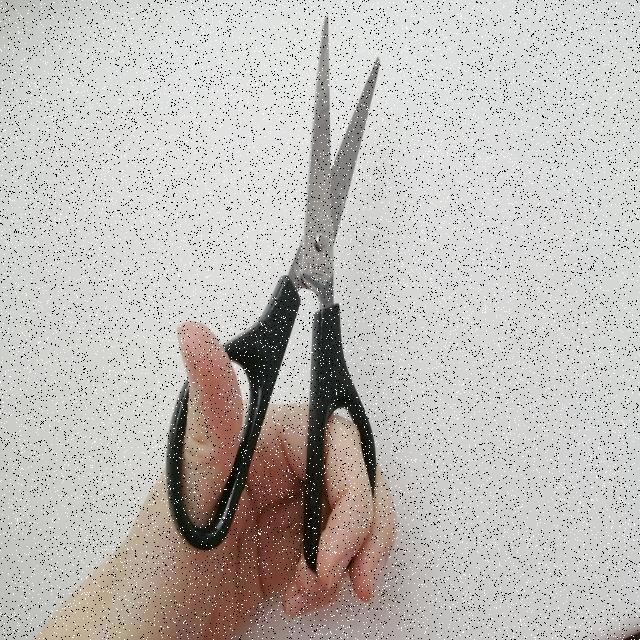scissors: (163, 12, 385, 581)
